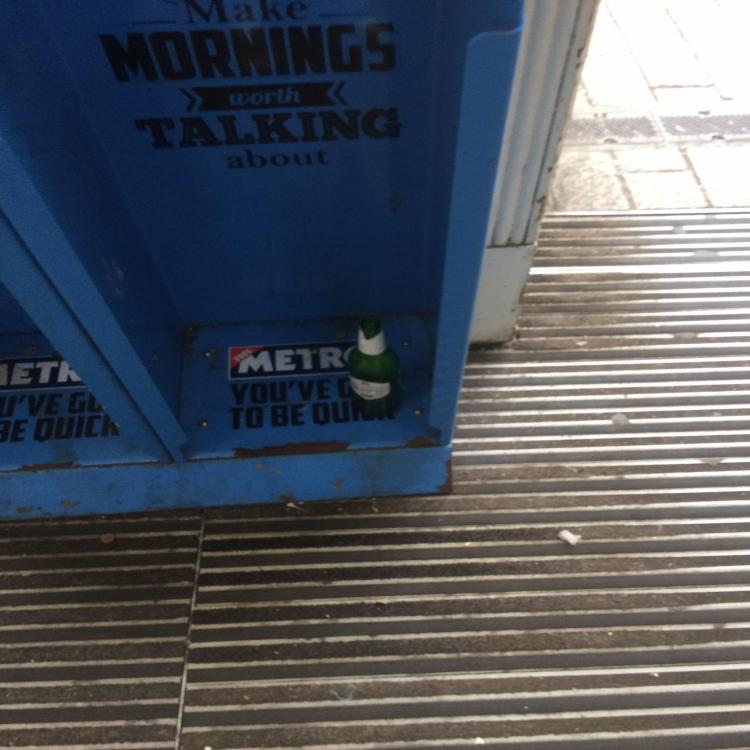Glass bottle: (348, 314, 402, 415)
Unlabeled litter: (557, 528, 582, 546)
